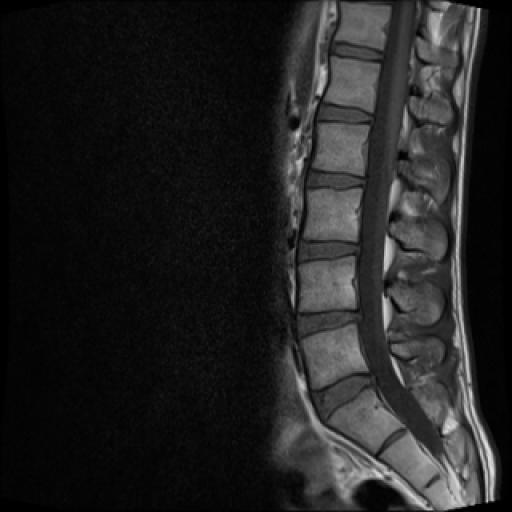L1: (323, 56, 381, 113)
L2: (311, 122, 370, 176)
L3: (302, 188, 363, 242)
L4: (299, 256, 357, 312)
L5: (301, 324, 368, 389)
S1: (327, 387, 403, 454)
